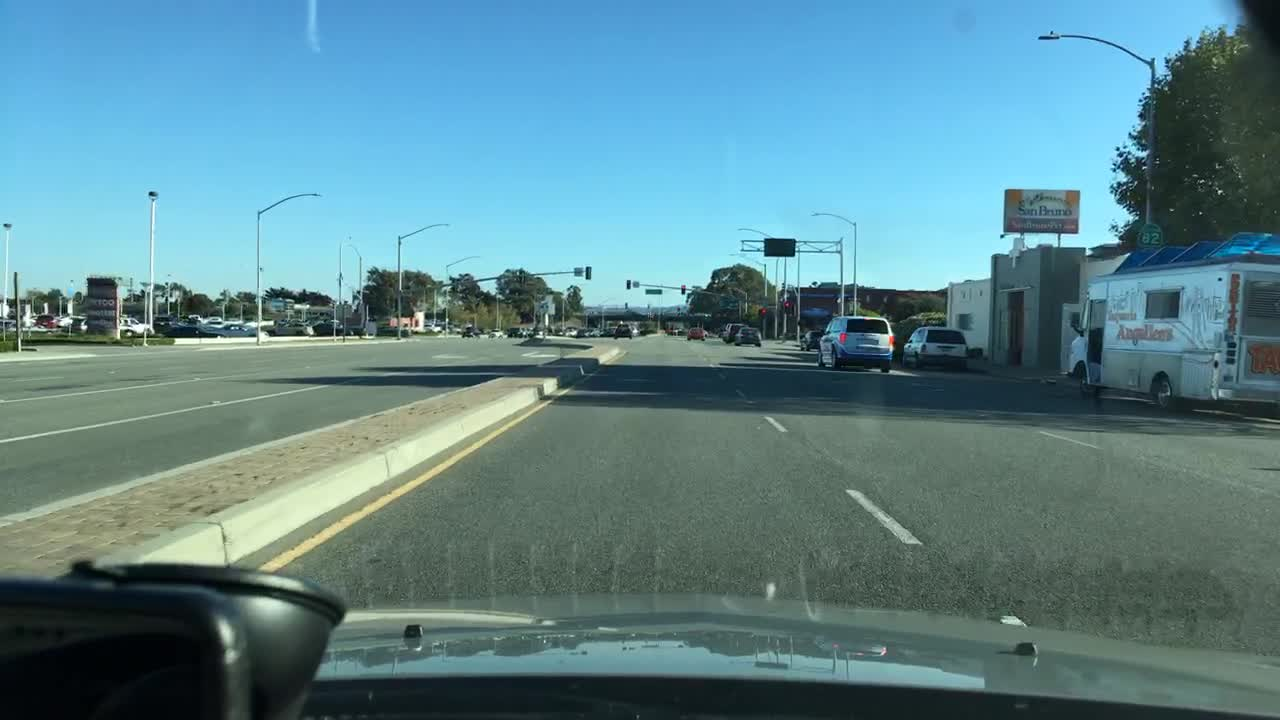car: (1062, 227, 1278, 418), (815, 313, 895, 374), (899, 324, 970, 370), (116, 315, 155, 336), (161, 325, 224, 337), (733, 325, 763, 347), (311, 321, 354, 336), (6, 317, 48, 332), (797, 328, 823, 352), (213, 324, 260, 337), (265, 324, 313, 336), (53, 313, 85, 328), (611, 320, 634, 340), (720, 321, 740, 342), (66, 315, 88, 334), (411, 321, 442, 334), (34, 312, 57, 329), (685, 325, 709, 341), (280, 320, 315, 330), (151, 313, 173, 326), (462, 325, 482, 339), (504, 324, 524, 337), (204, 312, 225, 324), (542, 325, 558, 340), (574, 326, 591, 339), (0, 317, 15, 331), (692, 310, 713, 319), (487, 326, 503, 337), (393, 321, 412, 330), (186, 312, 201, 323), (604, 324, 618, 335), (665, 325, 679, 336), (630, 323, 641, 337), (519, 325, 531, 337), (453, 323, 466, 334), (526, 325, 538, 336), (585, 326, 597, 337), (594, 326, 607, 336), (670, 326, 683, 336), (531, 328, 545, 337), (480, 325, 491, 335), (563, 324, 576, 332), (555, 328, 565, 336), (701, 329, 711, 337)
traffic light: (758, 306, 769, 319), (517, 269, 527, 283), (784, 299, 791, 314), (585, 265, 592, 278), (625, 279, 632, 290), (680, 284, 686, 295)
traffic sign: (1137, 220, 1165, 249), (763, 237, 795, 255), (645, 288, 663, 295), (572, 266, 583, 277), (632, 279, 640, 288)
